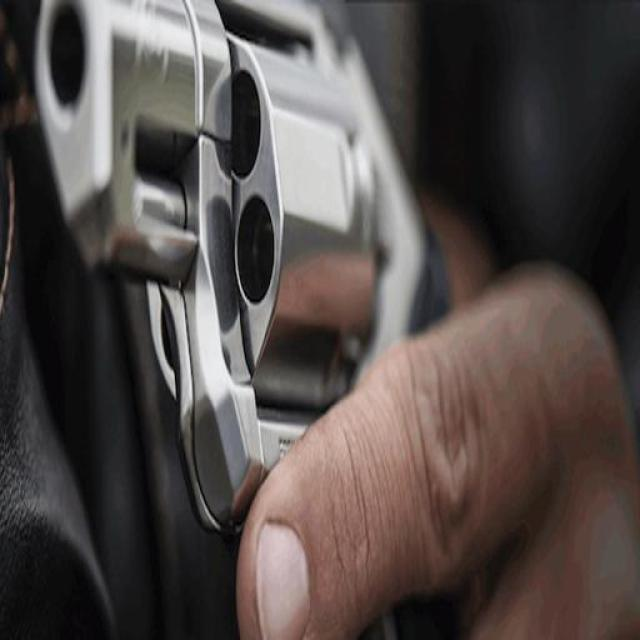pistol: (32, 2, 462, 636)
